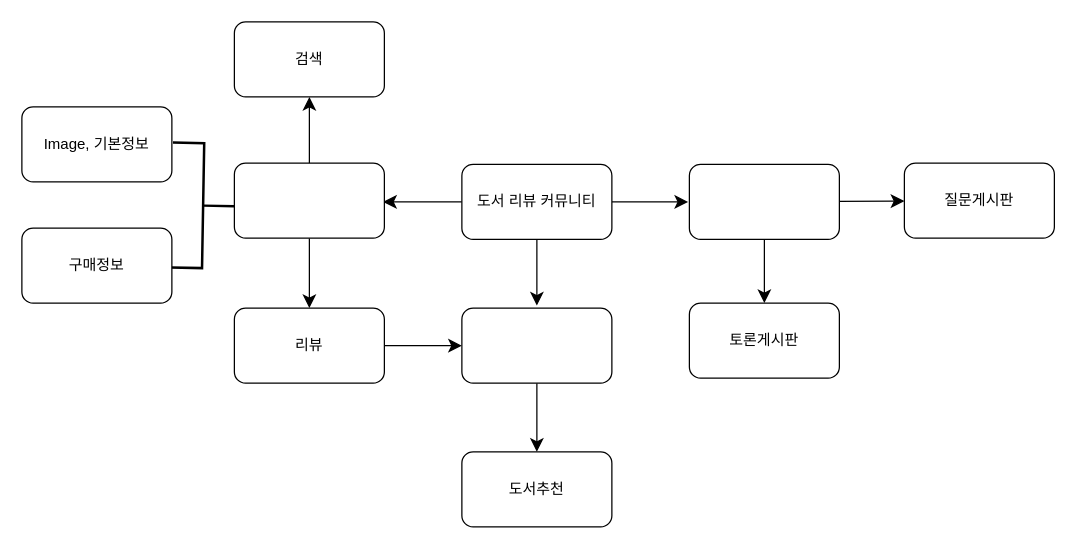
This 1076x549 diagram has some shape labels left out. The box of each missing label's shape, as (x1, y1, x2, y2) in pixels:
게시판: (688, 163, 839, 239)
도서: (233, 162, 384, 238)
유저 프로필: (461, 307, 612, 383)
